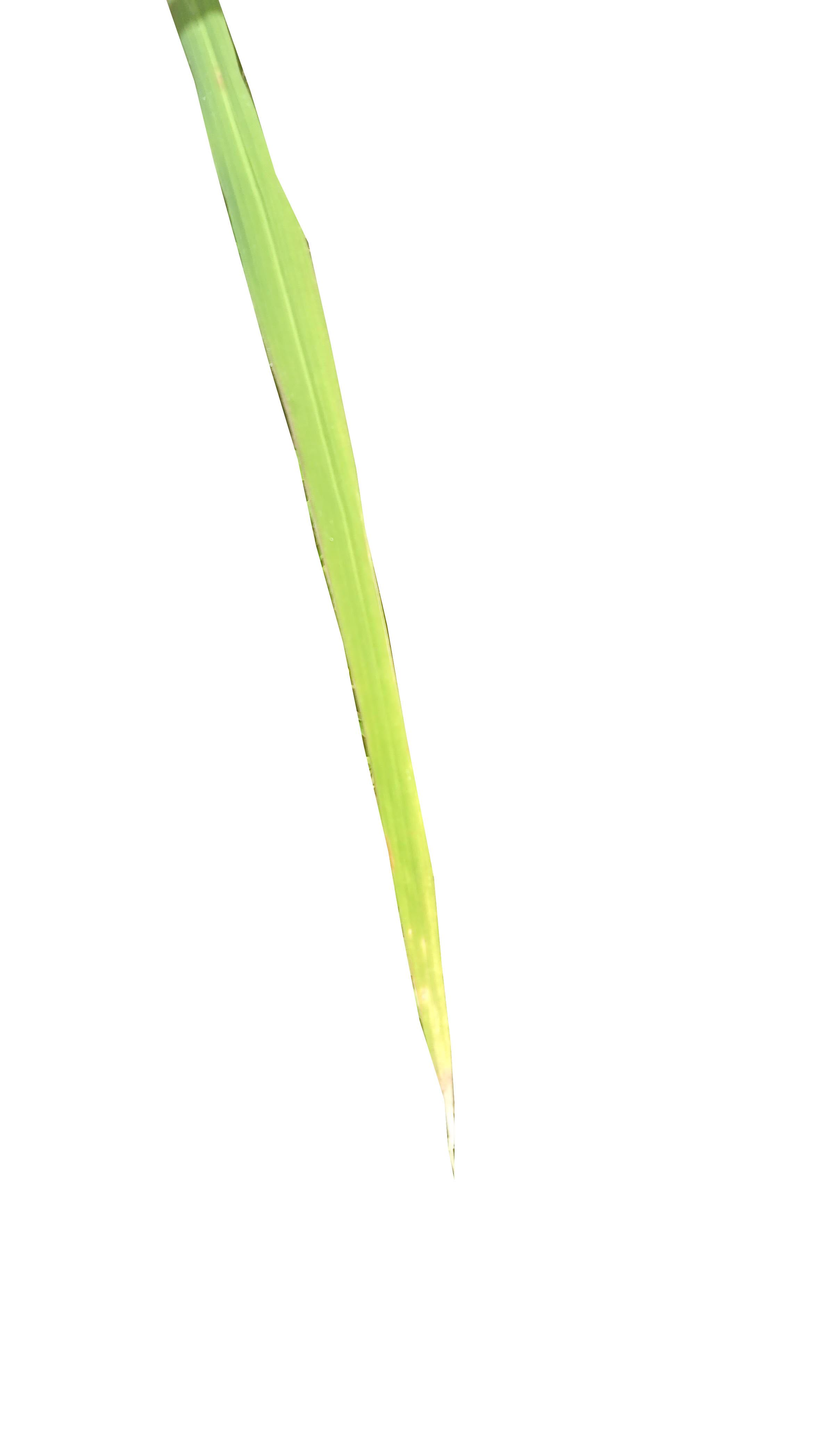Tungro: (162, 0, 462, 1185)
